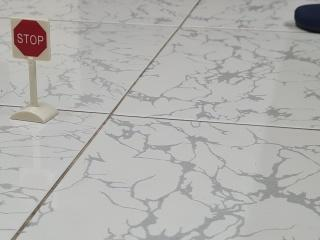stop: (9, 12, 56, 68)
